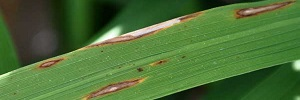RiceBlast: (97, 21, 208, 47), (77, 77, 153, 100), (233, 2, 298, 16), (39, 58, 69, 71)
